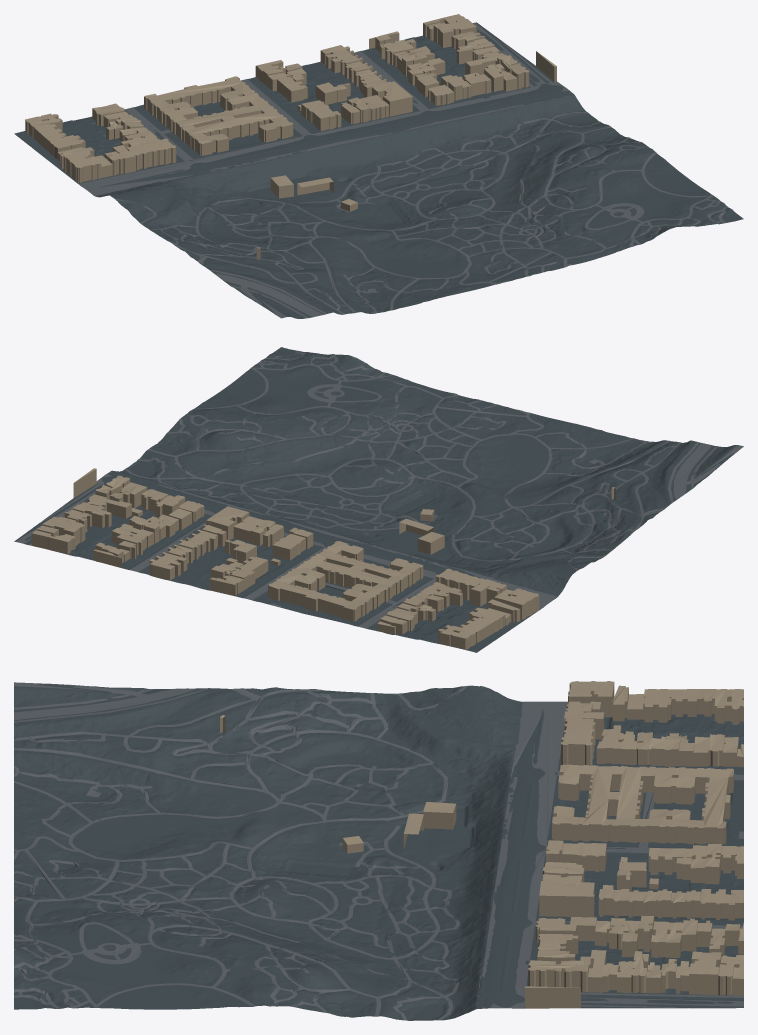
Rendered from epsg26910-1423-10885.lod0.glb.
3 views of the same model, one above another, from view 1: azimuth 30°, elevation 25°; view 2: azimuth 150°, elevation 25°; view 3: azimuth 270°, elevation 25° (orthographic). The views are drawn at different scales.
Parts seen in each view (by area): view 1: epsg26910-1423-10885-lod0; view 2: epsg26910-1423-10885-lod0; view 3: epsg26910-1423-10885-lod0.
Boxes of the visible parts, box(x1,y1,x2,y2) form: epsg26910-1423-10885-lod0: box(14, 14, 743, 318); epsg26910-1423-10885-lod0: box(14, 347, 743, 652); epsg26910-1423-10885-lod0: box(14, 681, 743, 1020).
Size of the model in its own units: 384 by 26.64 by 384.
